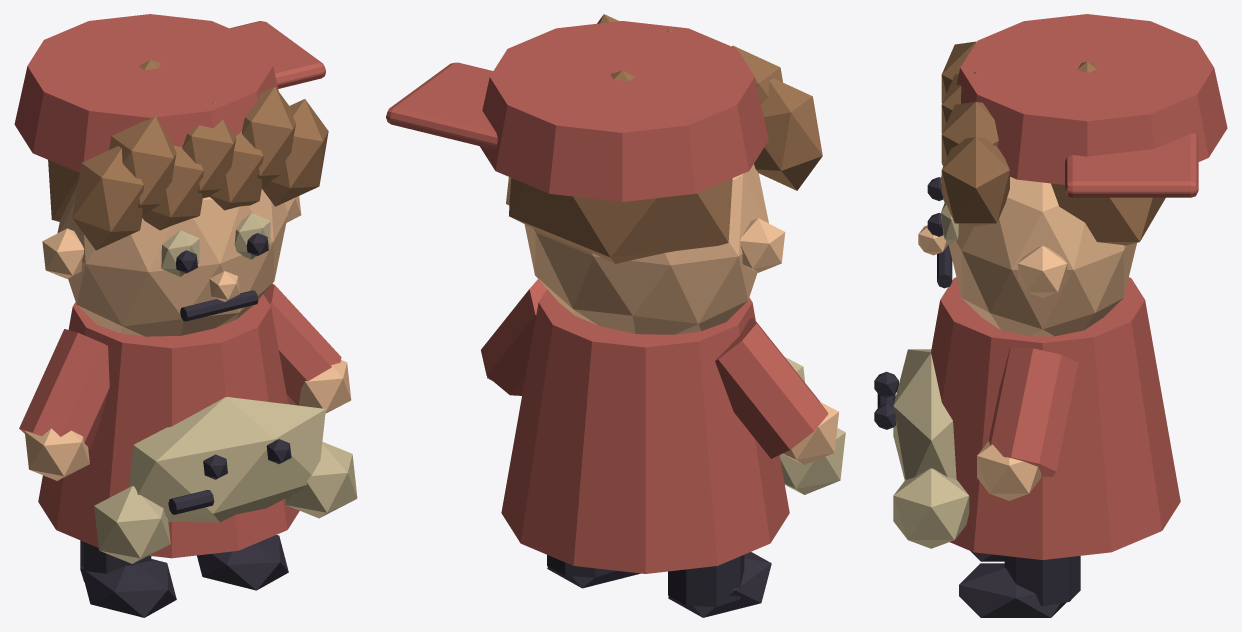
File: ghost-level-gamer.glb
3 views of the same model, side by side, from view 1: azimuth 30°, elevation 25°; view 2: azimuth 150°, elevation 25°; view 3: azimuth 270°, elevation 25° (orthographic). The views are drawn at different scales.
Parts seen in each view (by area): view 1: Costume torso.013, Eye white.008, Hair cap.013, Head.013, Boot leg.008; view 2: Costume torso.013, Head.013, Hair cap.013, Boot leg.008, Eye white.008; view 3: Costume torso.013, Head.013, Hair cap.013, Eye white.008, Boot leg.008.
Part boxes in pixels (<box>): Costume torso.013: <box>14,14,341,558</box>; Eye white.008: <box>94,213,357,563</box>; Hair cap.013: <box>48,60,328,250</box>; Head.013: <box>25,185,351,480</box>; Boot leg.008: <box>80,233,291,617</box>; Costume torso.013: <box>386,21,828,573</box>; Head.013: <box>487,164,838,464</box>; Hair cap.013: <box>509,14,822,263</box>; Boot leg.008: <box>547,552,771,617</box>; Eye white.008: <box>779,357,845,494</box>; Costume torso.013: <box>931,14,1227,559</box>; Head.013: <box>918,177,1136,500</box>; Hair cap.013: <box>941,41,1165,245</box>; Eye white.008: <box>893,176,969,548</box>; Boot leg.008: <box>874,177,1080,617</box>.
Size of the model in its own units: 0.0175 by 0.0261 by 0.0159.
